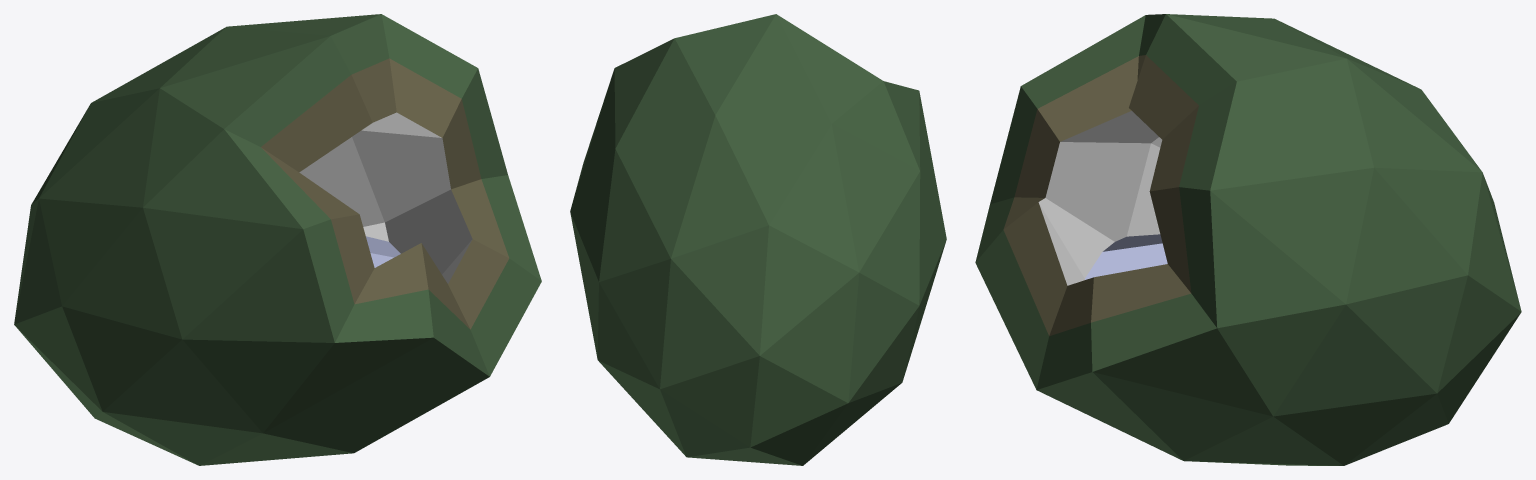
Rendered from Coconut_2.glb.
3 renders of one model, left to right at view 1: azimuth 30°, elevation 25°; view 2: azimuth 150°, elevation 25°; view 3: azimuth 270°, elevation 25°, orthographic. The views are drawn at different scales.
Visible parts, largest first — view 1: CoconutOpen, CoconutWater; view 2: CoconutOpen; view 3: CoconutOpen, CoconutWater.
Boxes of the visible parts, x1=… form: CoconutOpen: x1=14, y1=14, x2=541, y2=465; CoconutWater: x1=366, y1=236, x2=400, y2=267; CoconutOpen: x1=570, y1=14, x2=946, y2=465; CoconutOpen: x1=975, y1=14, x2=1521, y2=465; CoconutWater: x1=1085, y1=234, x2=1167, y2=279.
Size of the model in its own units: 0.2182 by 0.2221 by 0.2383.
